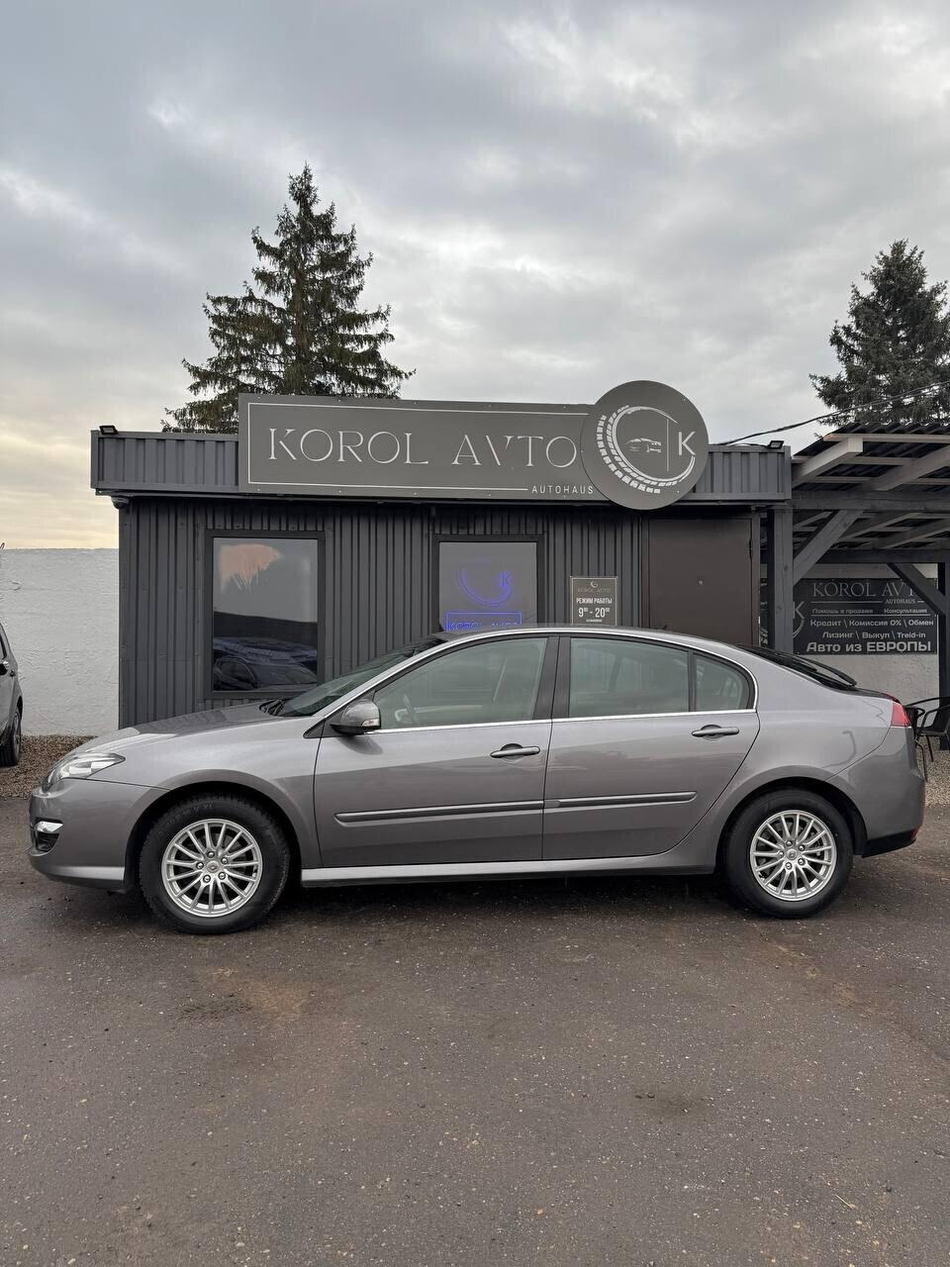Laguna_2010-2015: (25, 612, 937, 958)
